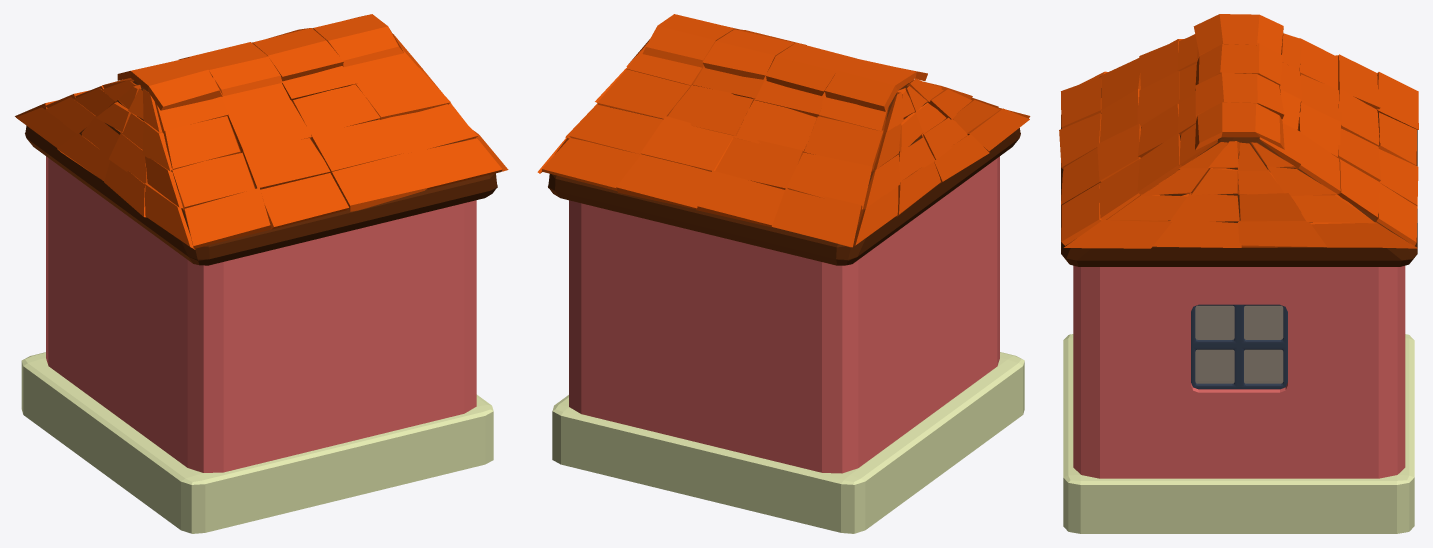
File: House_01.fbx
The picture shows the model from 3 angles, left to right: view 1: azimuth 30°, elevation 25°; view 2: azimuth 150°, elevation 25°; view 3: azimuth 270°, elevation 25°; orthographic projection.
Parts seen in each view (by area): view 1: house01; view 2: house01; view 3: house01.
Boxes of the visible parts, x1,y1,x2,y2 form: house01: (15, 14, 508, 533); house01: (537, 14, 1030, 533); house01: (1059, 14, 1418, 533).
Bounding box in the file's own units: 434 × 497 × 417.
